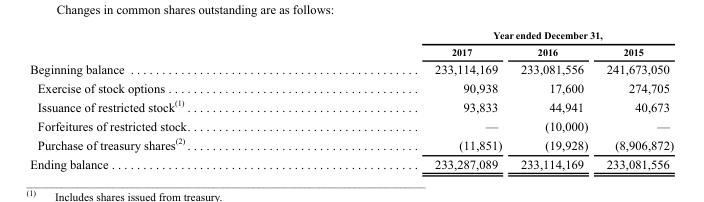table: (29, 29, 673, 170)
table column: (29, 29, 311, 170), (311, 29, 510, 170), (510, 29, 596, 170), (596, 29, 673, 170)
table column header: (29, 29, 673, 59)
table row: (29, 96, 673, 116), (29, 134, 673, 154), (29, 59, 673, 78), (29, 78, 673, 96), (29, 116, 673, 134), (29, 43, 673, 59), (29, 154, 673, 170), (29, 29, 673, 43)
table spanning cell: (311, 29, 673, 43)
